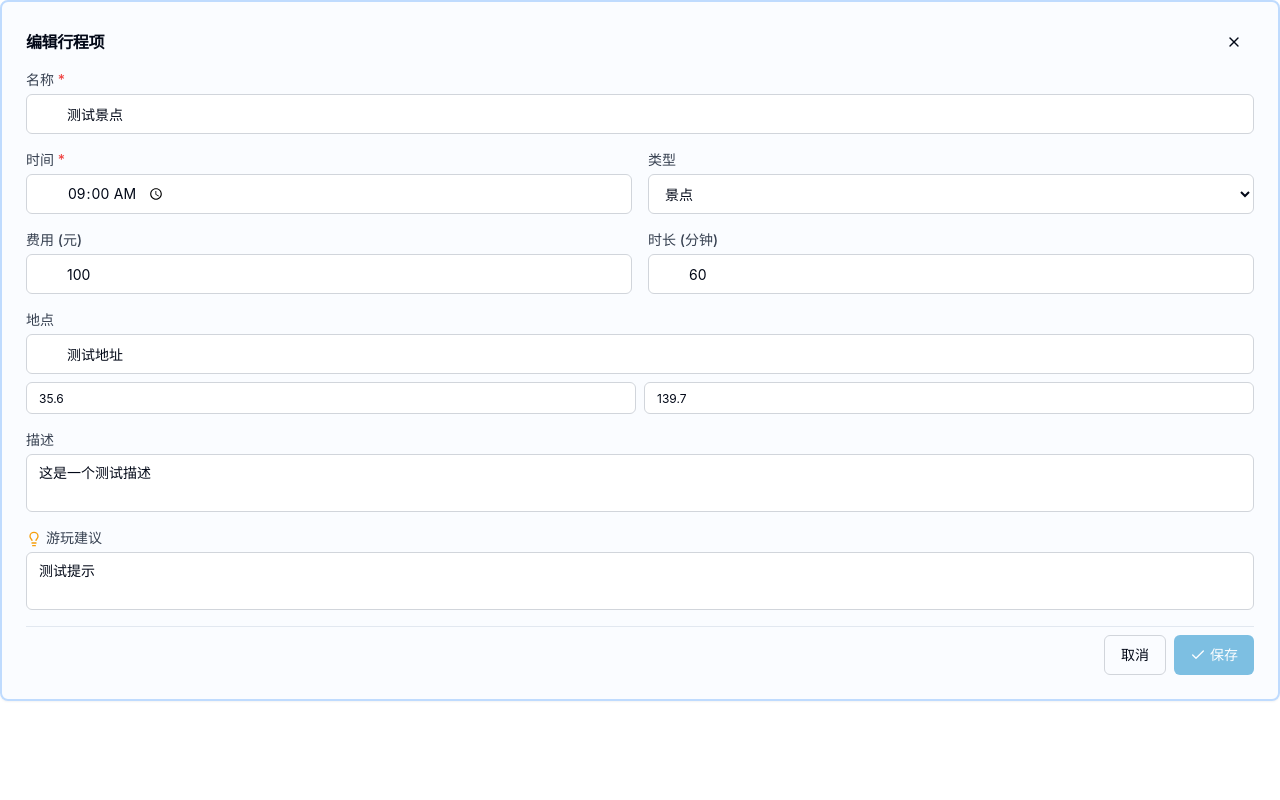
ItemEditor › 表单验证 › 应该验证费用非负
Replace the text in the number field showing "100" below "费用 (元)" with "-50" at (329, 274), box [26, 254, 632, 294]
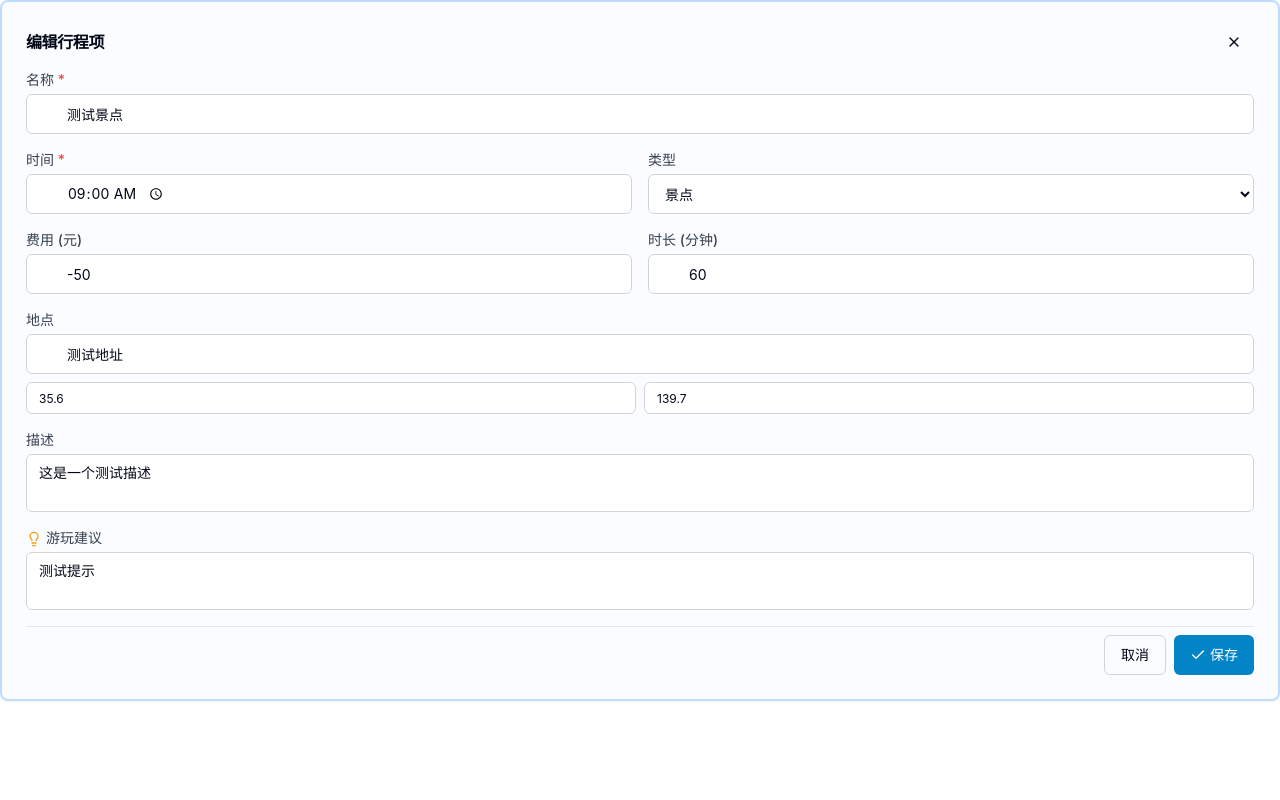
Click the button "保存" at (1214, 655), box [1174, 635, 1254, 675]
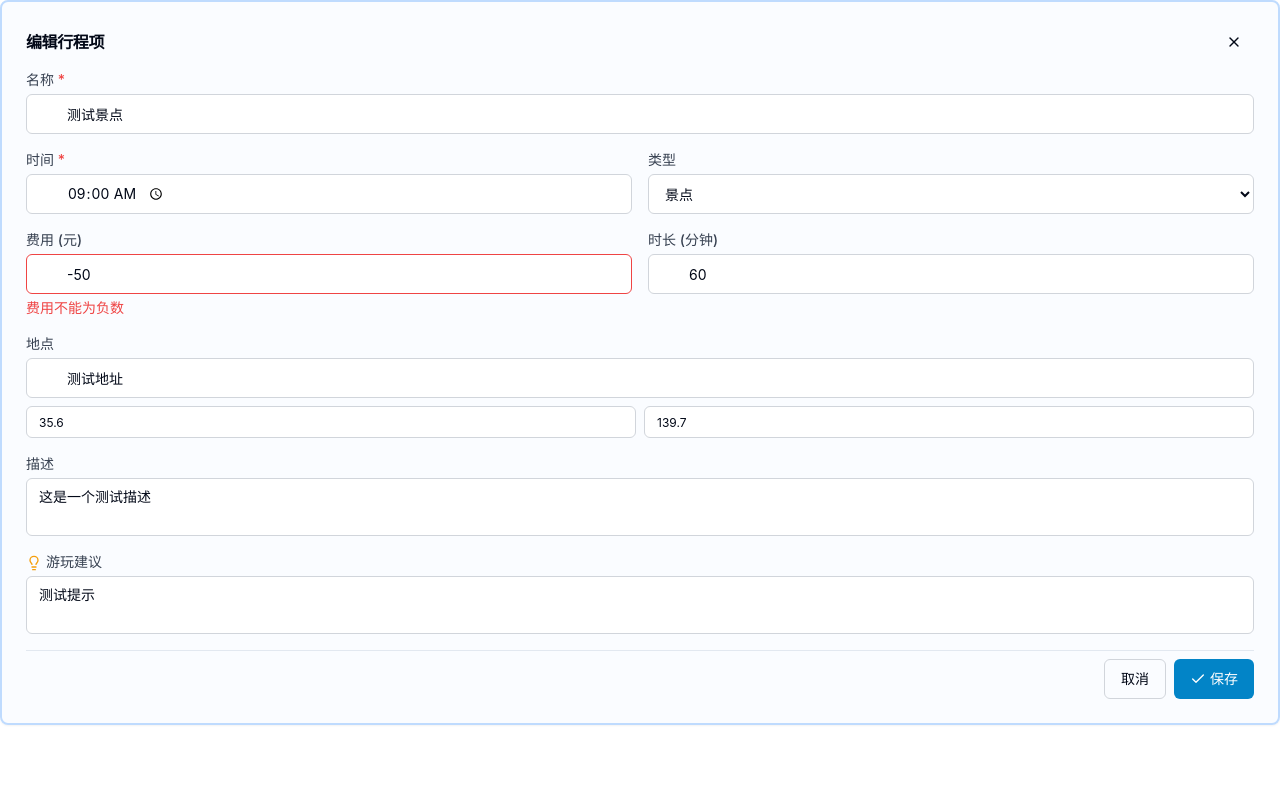
Result: the text "费用不能为负数" is shown at [26, 299, 124, 316]
